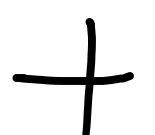plus: (12, 19, 133, 135)
